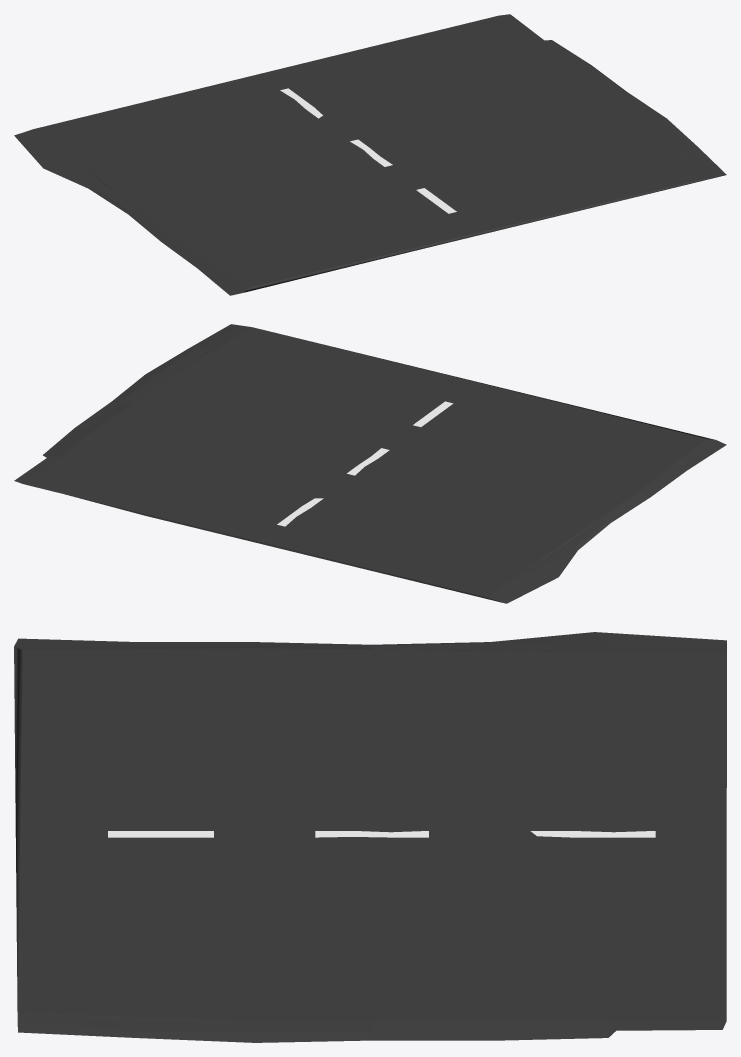
The model's file is Estrada3.fbx.
The picture shows the model from 3 angles, top to bottom: view 1: azimuth 30°, elevation 25°; view 2: azimuth 150°, elevation 25°; view 3: azimuth 270°, elevation 25°; orthographic projection. The views are drawn at different scales.
Parts seen in each view (by area): view 1: Estrada3; view 2: Estrada3; view 3: Estrada3.
Boxes of the visible parts, left/top/right/bottom form: Estrada3: left=14, top=14, right=726, bottom=295; Estrada3: left=14, top=324, right=726, bottom=603; Estrada3: left=14, top=632, right=726, bottom=1042.
Size of the model in its own units: 5757 by 27.13 by 4222.
